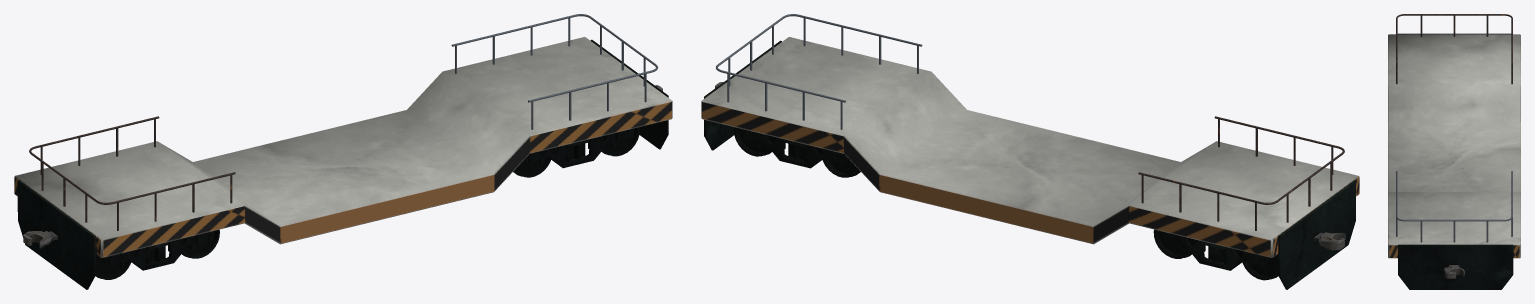
The model's file is ShoulderedPlatform.fbx.
The picture shows the model from 3 angles, left to right: view 1: azimuth 30°, elevation 25°; view 2: azimuth 150°, elevation 25°; view 3: azimuth 270°, elevation 25°; orthographic projection. The views are drawn at different scales.
Parts seen in each view (by area): view 1: Null_2; view 2: Null_2; view 3: Null_2.
Boxes of the visible parts, <box> form: Null_2: <box>14,14,672,289</box>; Null_2: <box>701,14,1359,289</box>; Null_2: <box>1388,14,1520,289</box>.
Size of the model in its own units: 668 by 94.64 by 162.
1 material, 1 textured.
